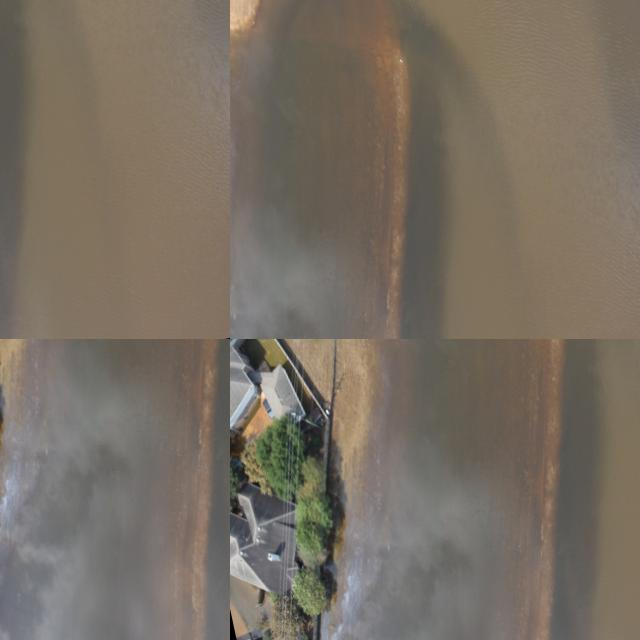fire: (325, 339, 640, 640), (0, 0, 230, 320), (0, 339, 219, 640)
